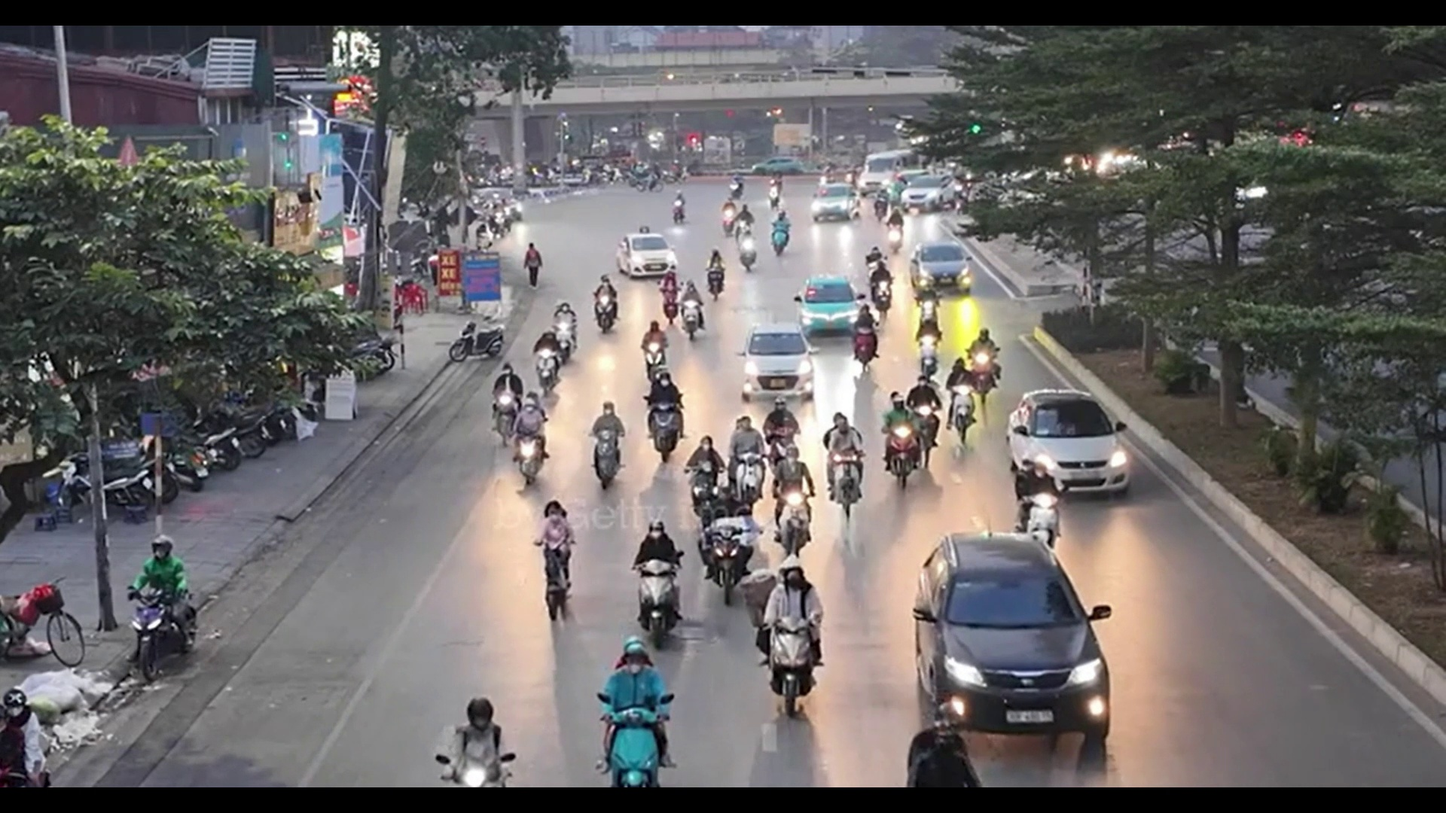car: (911, 531, 1113, 735), (1006, 388, 1133, 498), (742, 327, 813, 394), (797, 273, 864, 335), (912, 242, 972, 290), (617, 232, 678, 279), (813, 182, 858, 222)
motorcycle: (1, 581, 88, 668)
